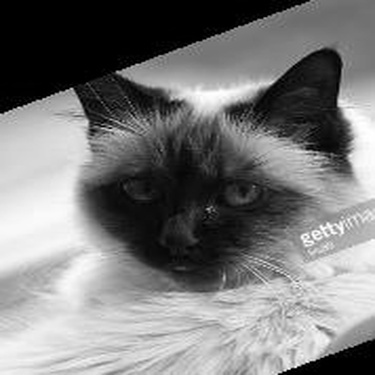cat: (8, 42, 370, 365)
